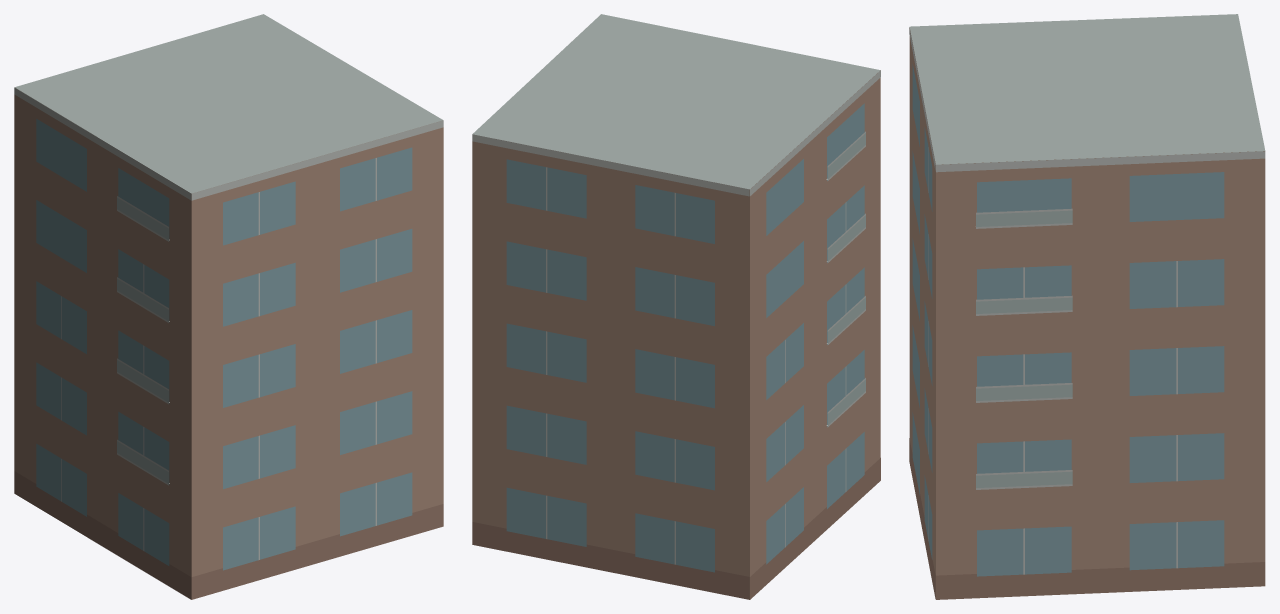
File: survey-upis-32653081.glb
3 views of the same model, side by side, from view 1: azimuth 30°, elevation 25°; view 2: azimuth 150°, elevation 25°; view 3: azimuth 270°, elevation 25° (orthographic). The views are drawn at different scales.
Parts seen in each view (by area): view 1: survey-upis-32653081.tmp; view 2: survey-upis-32653081.tmp; view 3: survey-upis-32653081.tmp.
Part boxes in pixels (x1,y1,x2,y2): survey-upis-32653081.tmp: (14,14,443,599); survey-upis-32653081.tmp: (472,14,880,599); survey-upis-32653081.tmp: (909,14,1265,599).
Size of the model in its own units: 10.44 by 14.05 by 10.42.
